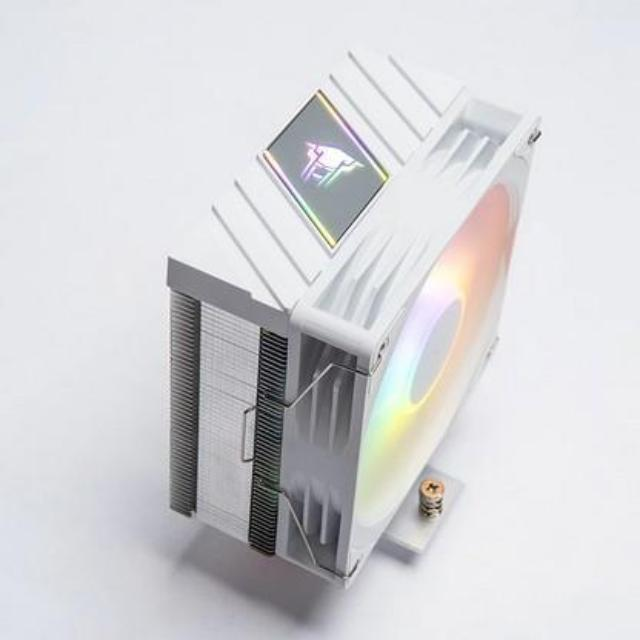CPU_Fan: (162, 26, 544, 594)
